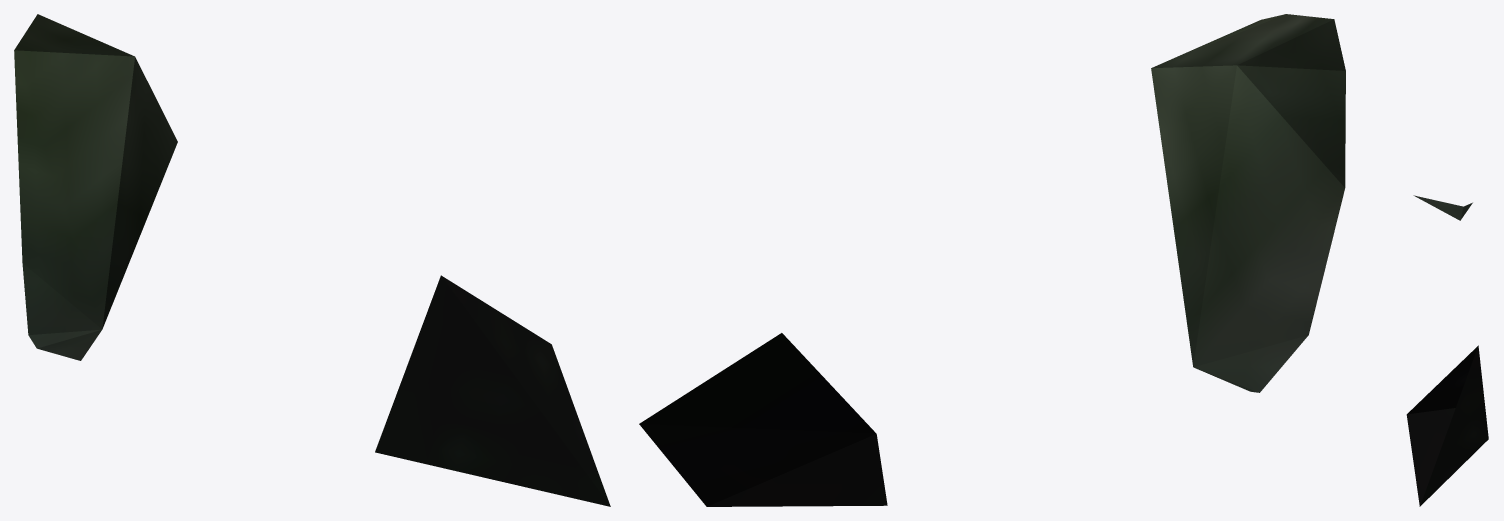
3 renders of one model, left to right at view 1: azimuth 30°, elevation 25°; view 2: azimuth 150°, elevation 25°; view 3: azimuth 270°, elevation 25°, orthographic. The views are drawn at different scales.
Size of the model in its own units: 2.01 by 2.14 by 0.6504.
Materials: 1 (1 with a texture image).
